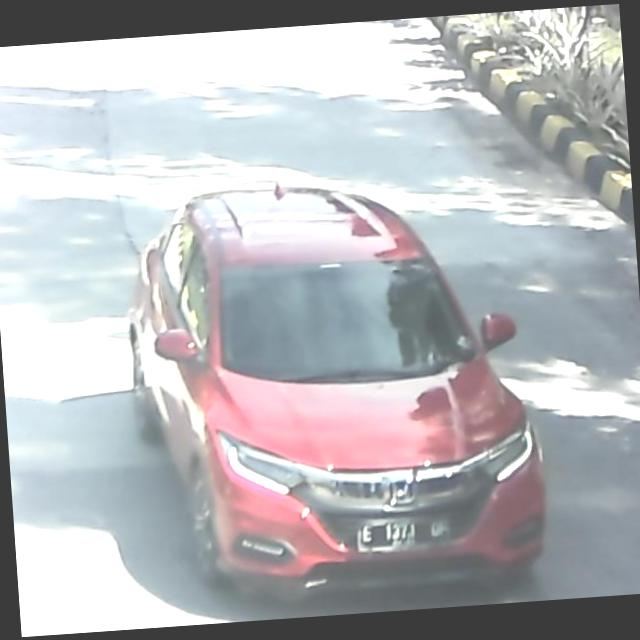plate: (355, 515, 455, 554)
